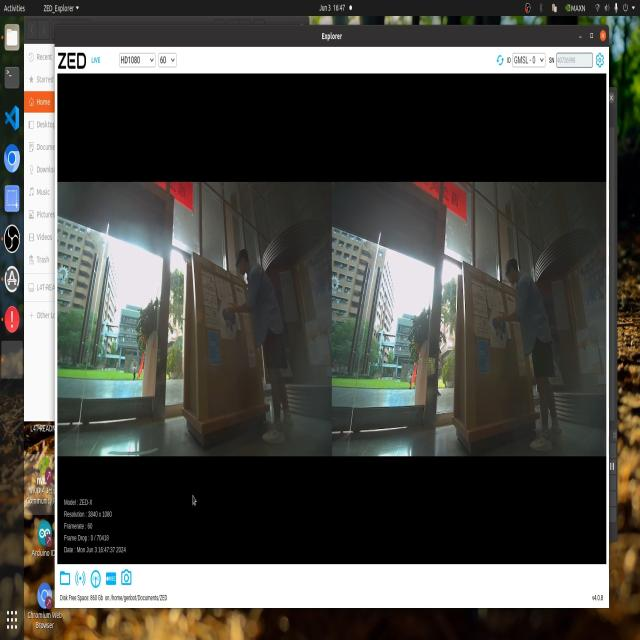blue: (485, 309, 511, 339), (224, 305, 240, 352)
